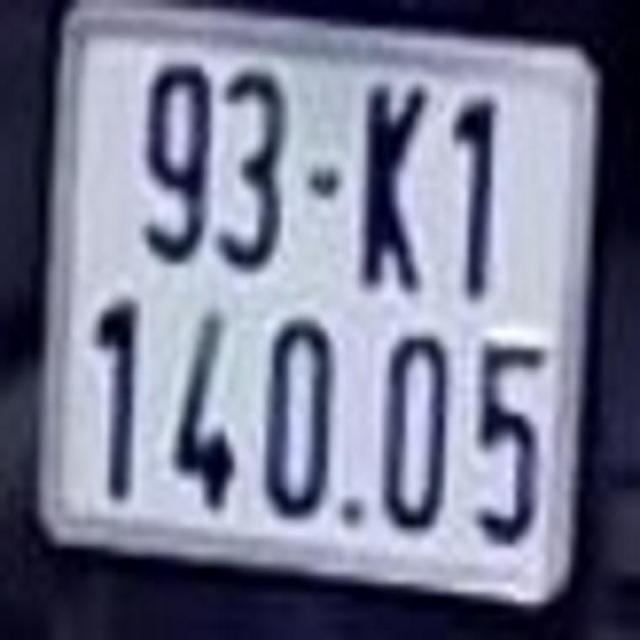0: (260, 314, 331, 527), (389, 330, 451, 535)
1: (90, 296, 140, 502), (454, 87, 501, 302)
3: (221, 70, 278, 268)
4: (174, 304, 238, 517)
5: (473, 332, 545, 551)
9: (143, 63, 209, 258)
K: (365, 79, 427, 296)
